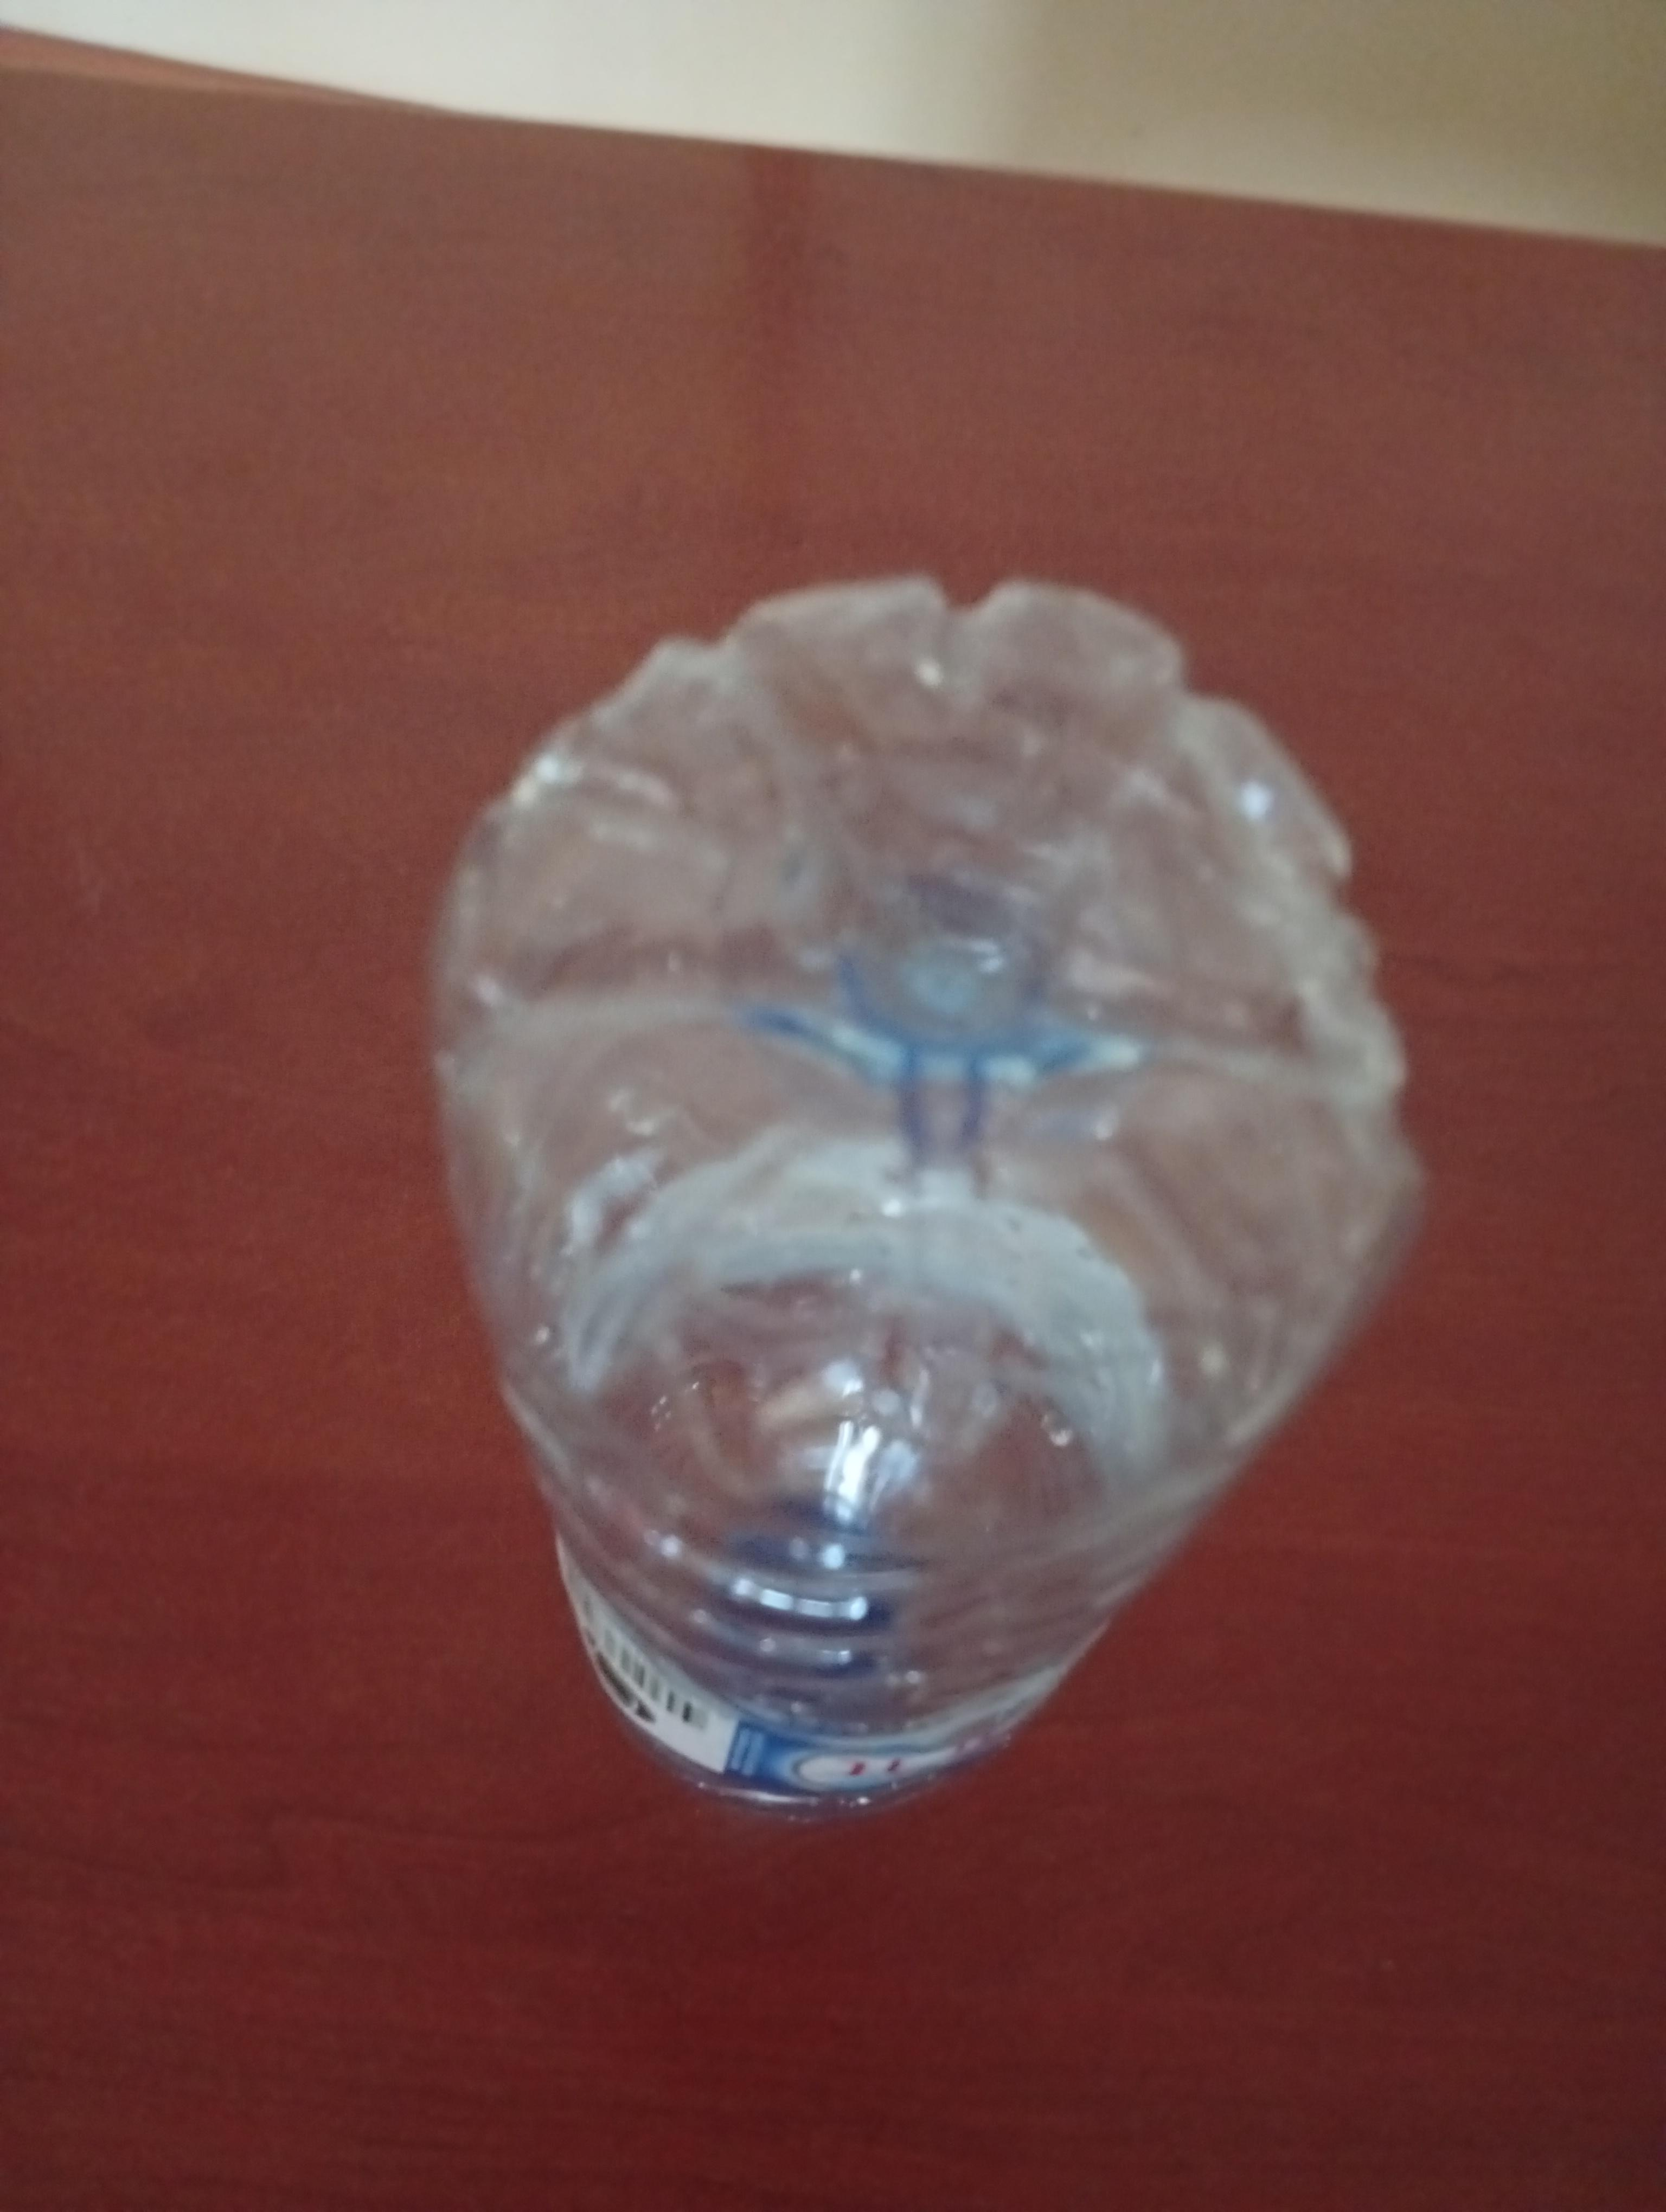etiketli: (420, 532, 1409, 1880)
